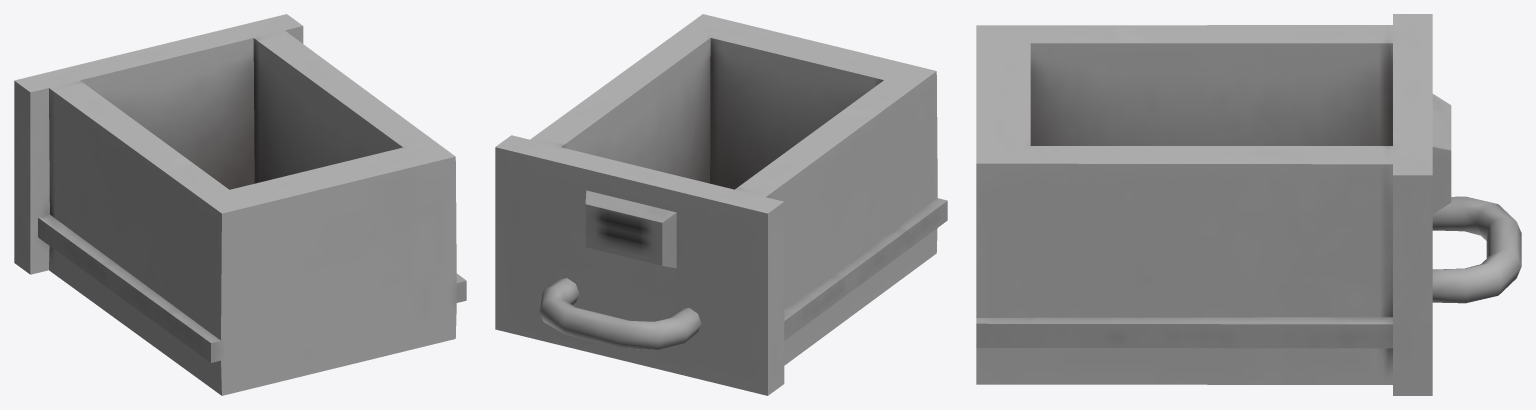
Rendered from Pfb_FileCabient_L__4.fbx.
3 renders of one model, left to right at view 1: azimuth 30°, elevation 25°; view 2: azimuth 150°, elevation 25°; view 3: azimuth 270°, elevation 25°, orthographic. The views are drawn at different scales.
Visible parts, largest first — view 1: Mat_FileCabient 1; view 2: Mat_FileCabient 1; view 3: Mat_FileCabient 1.
Boxes of the visible parts, box(x1,y1,x2,y2) form: Mat_FileCabient 1: box(14, 14, 466, 395); Mat_FileCabient 1: box(495, 14, 947, 395); Mat_FileCabient 1: box(976, 14, 1521, 395).
Size of the model in its own units: 0.5681 by 0.3629 by 0.8123.
Materials: 1 (1 with a texture image).
